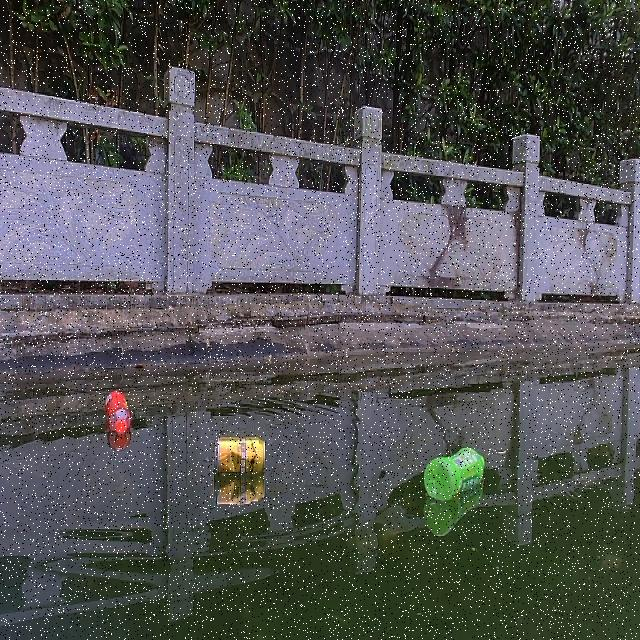bottle: (425, 447, 488, 501), (104, 389, 131, 435)
can: (211, 433, 266, 475)
